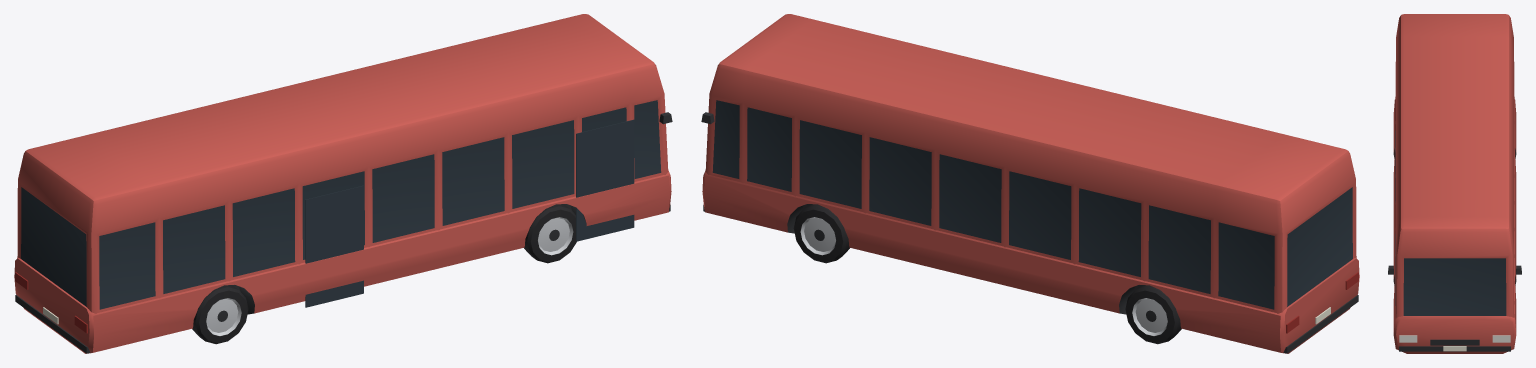
Rendered from bus.glb.
3 renders of one model, left to right at view 1: azimuth 30°, elevation 25°; view 2: azimuth 150°, elevation 25°; view 3: azimuth 270°, elevation 25°, orthographic. The views are drawn at different scales.
Parts seen in each view (by area): view 1: bus; view 2: bus; view 3: bus.
Part boxes in pixels (bbox=[...]): bus: bbox=[14, 14, 672, 353]; bus: bbox=[701, 14, 1359, 353]; bus: bbox=[1388, 14, 1521, 353].
Size of the model in its own units: 10.56 by 2.99 by 2.67.
